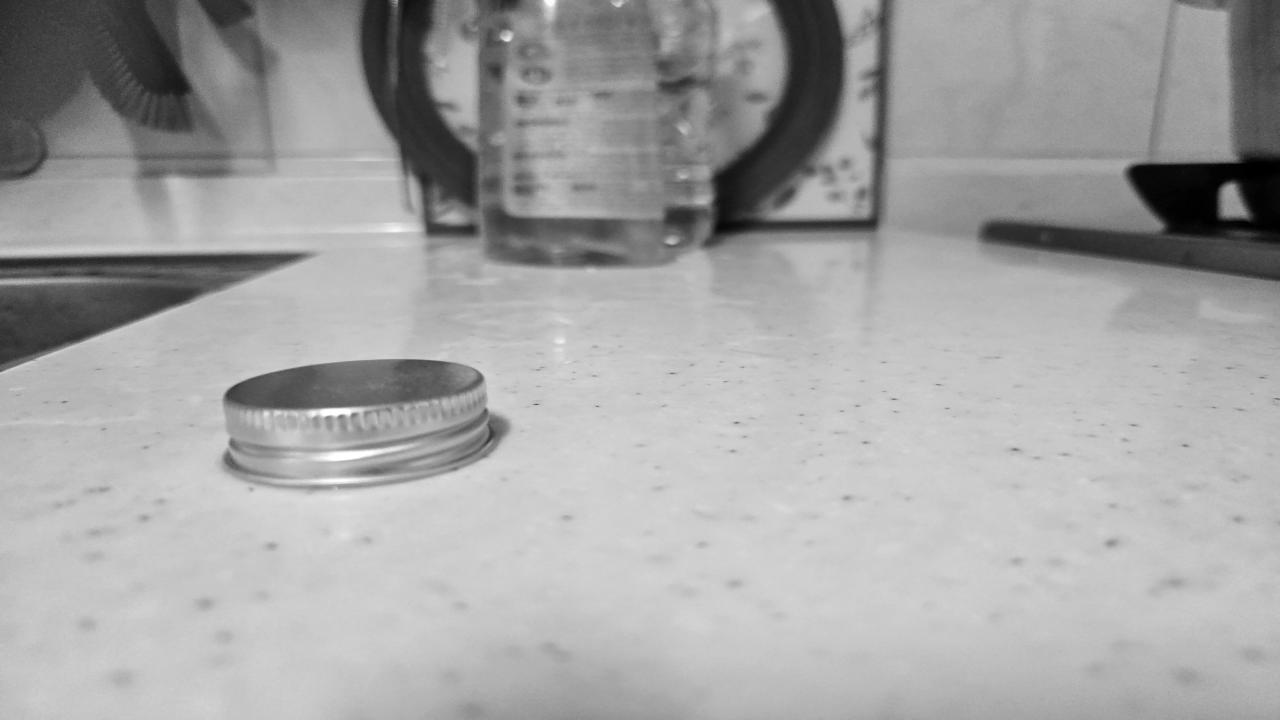bottle_cap: (220, 355, 501, 495)
